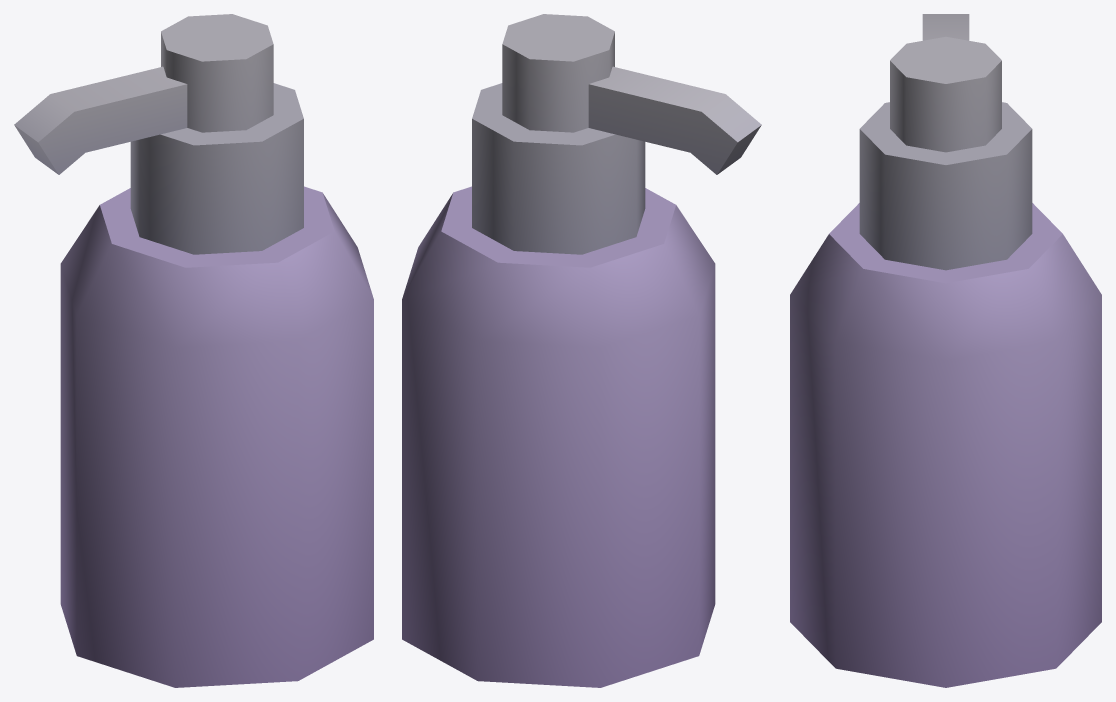
The model's file is soap-pump.glb.
3 renders of one model, left to right at view 1: azimuth 30°, elevation 25°; view 2: azimuth 150°, elevation 25°; view 3: azimuth 270°, elevation 25°, orthographic. The views are drawn at different scales.
Parts seen in each view (by area): view 1: soap-pump; view 2: soap-pump; view 3: soap-pump.
Boxes of the visible parts, x1,y1,x2,y2 form: soap-pump: (14,14,373,687); soap-pump: (402,14,761,687); soap-pump: (790,14,1101,687).
Size of the model in its own units: 0.1587 by 0.2671 by 0.1345.
